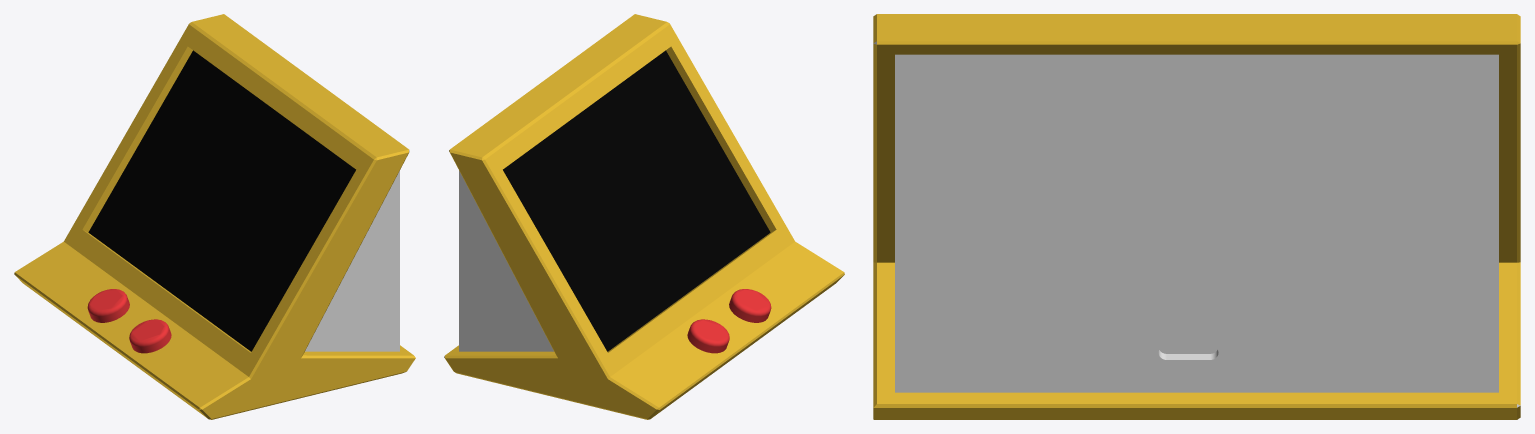
3 views of the same model, side by side, from view 1: azimuth 30°, elevation 25°; view 2: azimuth 150°, elevation 25°; view 3: azimuth 270°, elevation 25° (orthographic). The views are drawn at different scales.
Parts seen in each view (by area): view 1: Clock_V3_v3; view 2: Clock_V3_v3; view 3: Clock_V3_v3.
Boxes of the visible parts, bbox=[...] form: Clock_V3_v3: bbox=[14, 14, 415, 419]; Clock_V3_v3: bbox=[444, 14, 844, 419]; Clock_V3_v3: bbox=[873, 14, 1520, 419].
Bounding box in the file's own units: 59.84 × 58.92 × 90.
